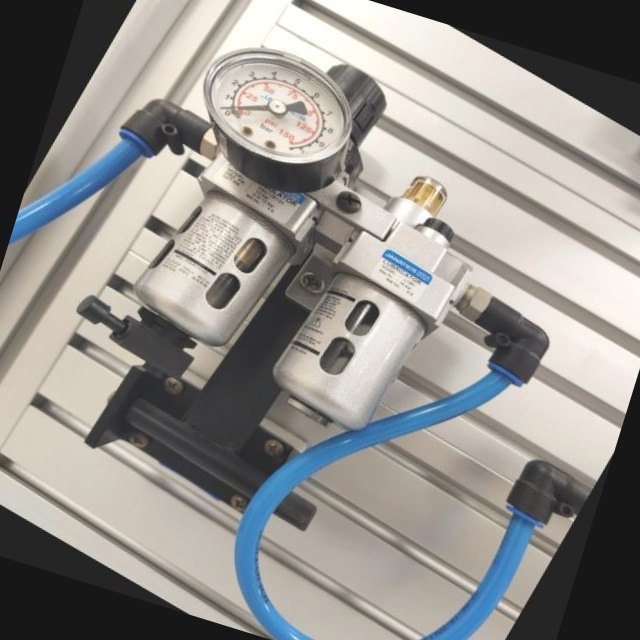FRL unit: (0, 0, 637, 640)
push button: (158, 8, 394, 225)
